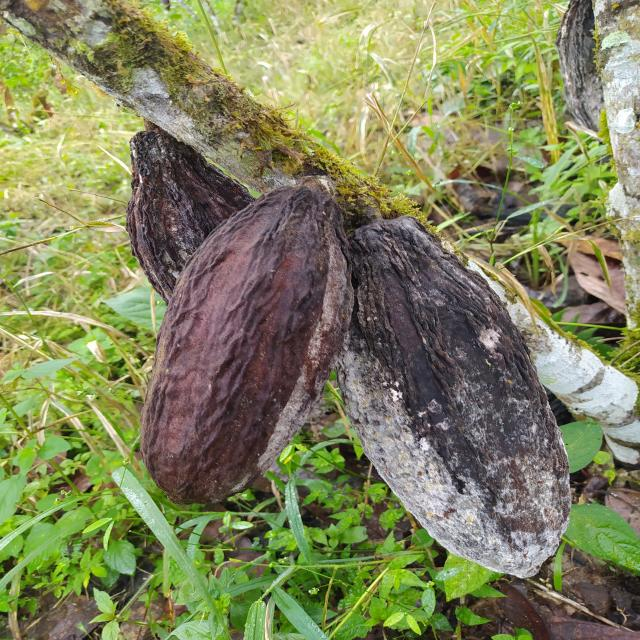Fitoftora: (334, 215, 570, 577), (141, 185, 348, 507), (126, 127, 276, 312)
